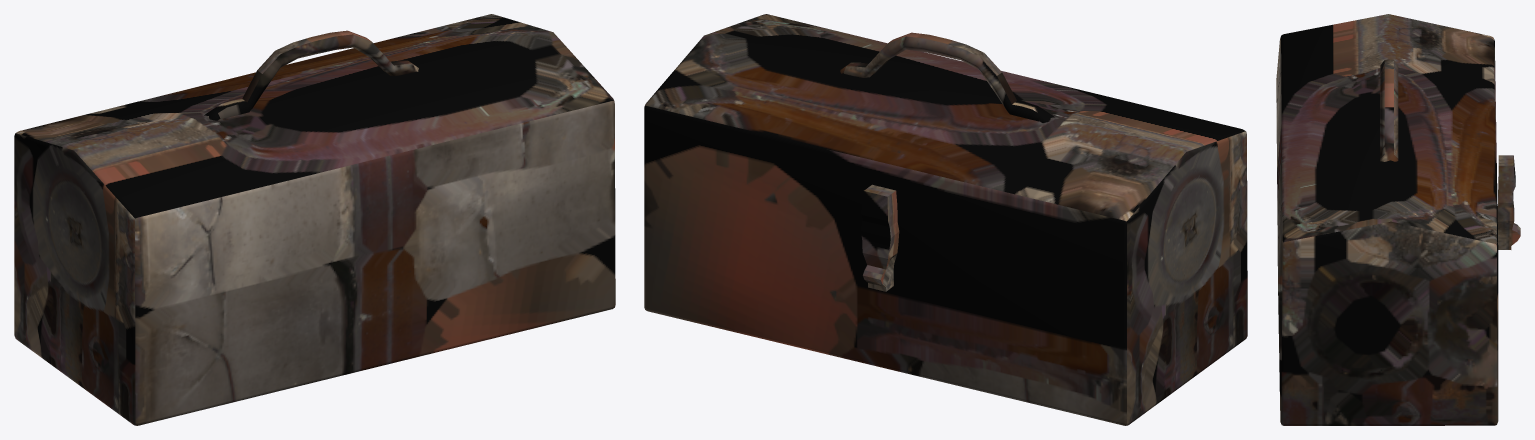
File: toolbox.fbx
The picture shows the model from 3 angles, left to right: view 1: azimuth 30°, elevation 25°; view 2: azimuth 150°, elevation 25°; view 3: azimuth 270°, elevation 25°; orthographic projection. The views are drawn at different scales.
Visible parts, largest first — view 1: toolbox; view 2: toolbox; view 3: toolbox.
Boxes of the visible parts, x1=… form: toolbox: x1=14, y1=14, x2=615, y2=425; toolbox: x1=644, y1=14, x2=1247, y2=425; toolbox: x1=1276, y1=14, x2=1520, y2=425.
Size of the model in its own units: 77.06 by 43.36 by 38.1.
